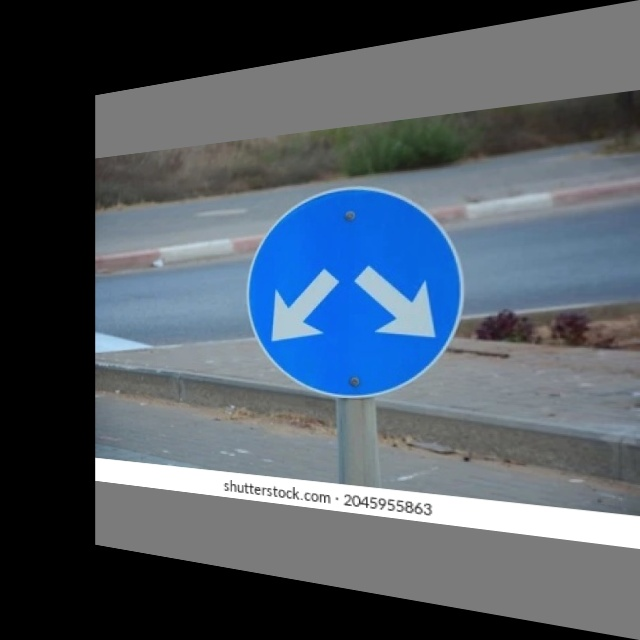Pass_Either_Side: (247, 178, 471, 411)
